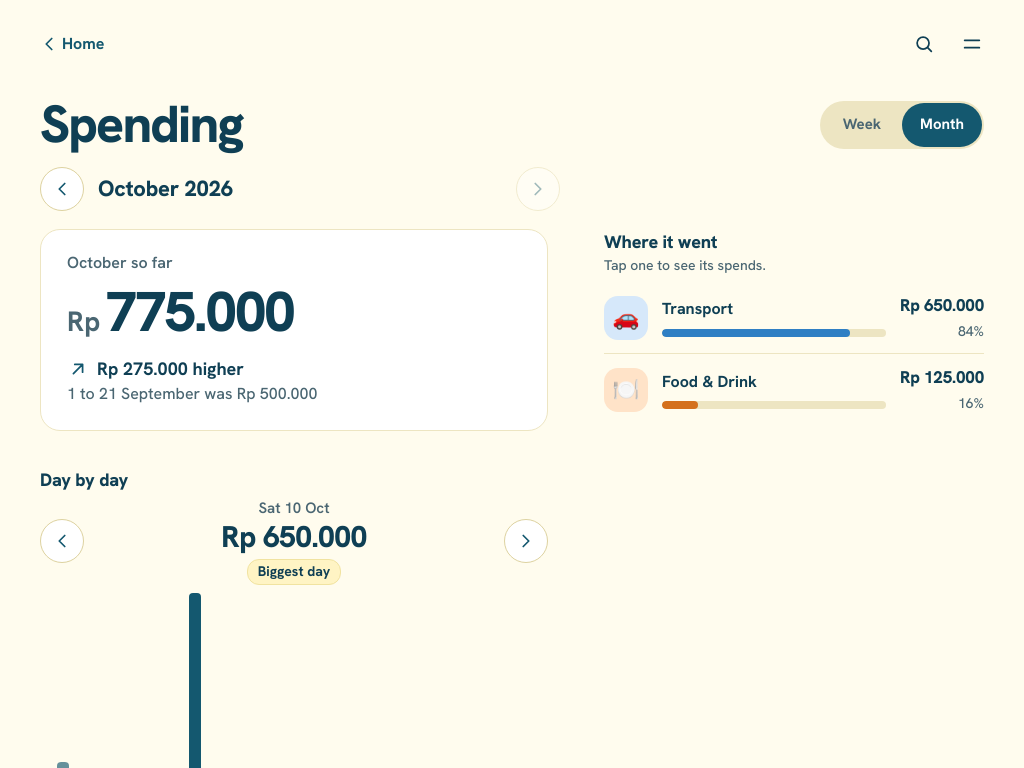
Spending › shows a no-spending period with nothing to compare, without a chart
Click the button named "Earlier month": [62, 189] box [40, 167, 84, 211]
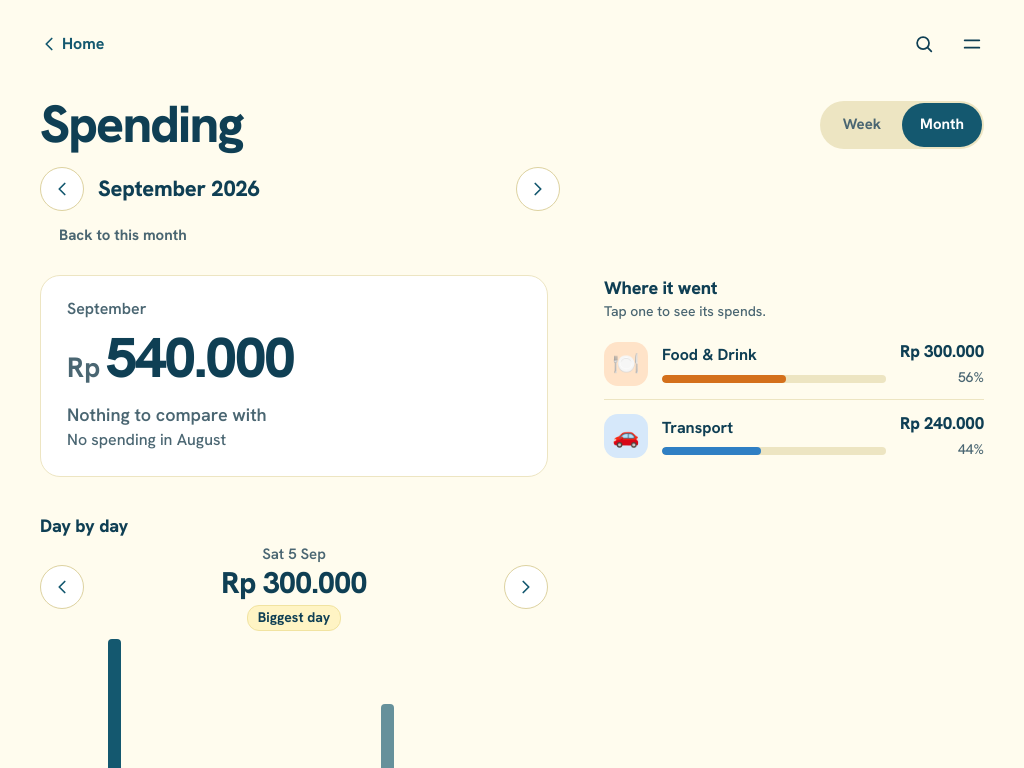
Click the button named "Earlier month": [62, 189] box [40, 167, 84, 211]
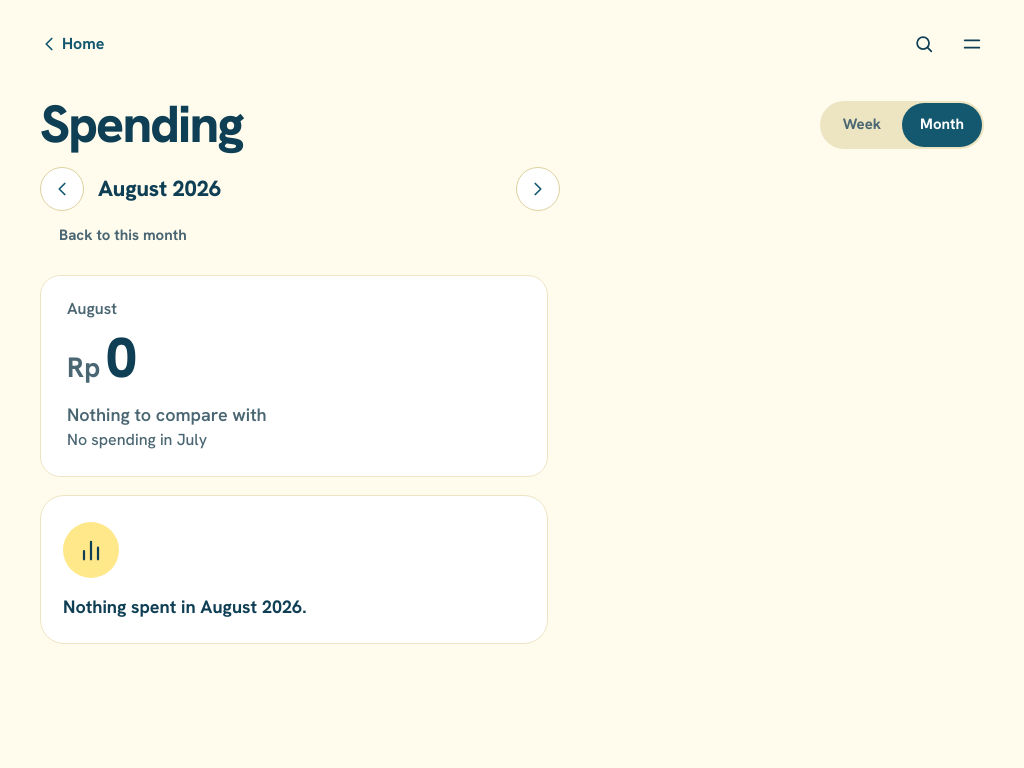
Click the button named "Earlier month": [62, 189] box [40, 167, 84, 211]
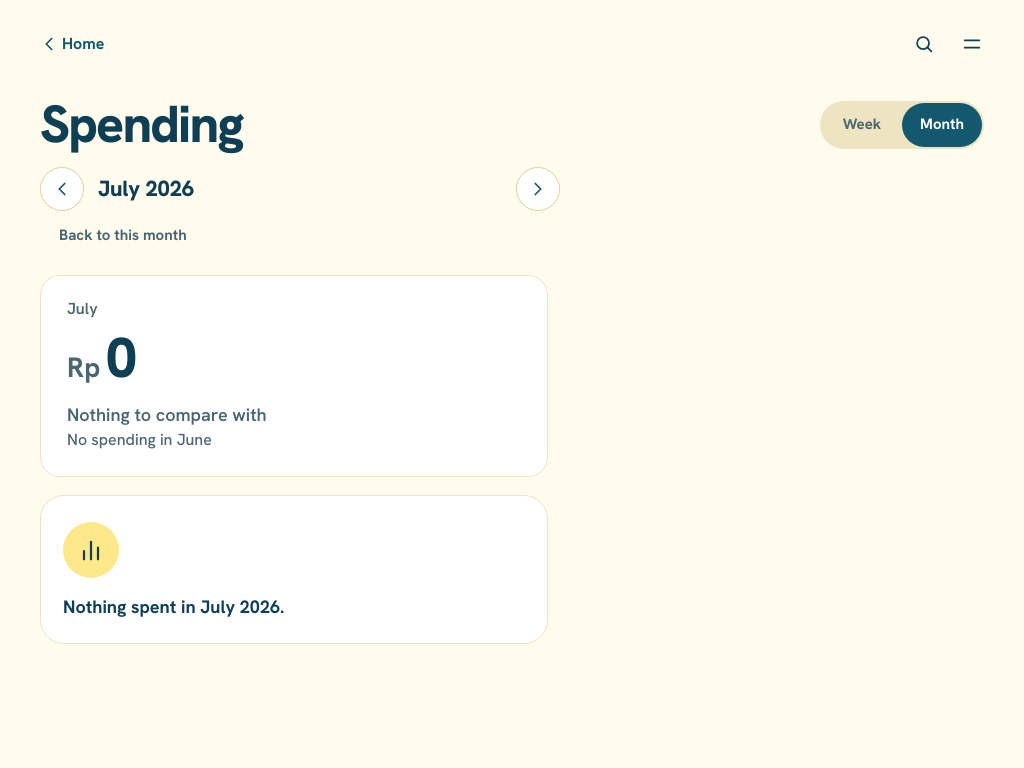
Expected: the heading "Day by day" is not shown
Result: the text "Nothing to compare with" is shown at [67, 403, 267, 426]
Result: the text "Nothing spent in July 2026." is shown at [63, 594, 284, 619]
